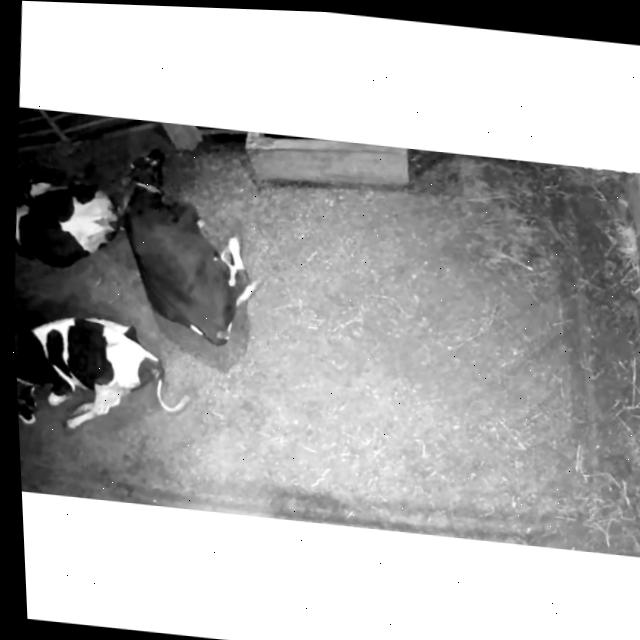lay: (90, 134, 276, 348), (13, 295, 176, 450), (9, 156, 126, 287)
